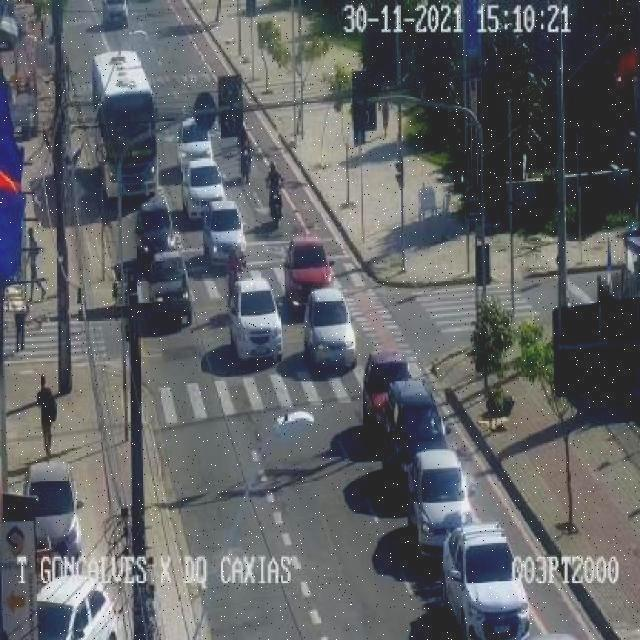Bus: (90, 51, 160, 198)
Car: (442, 522, 529, 639), (407, 447, 475, 552), (22, 460, 87, 565), (39, 571, 122, 640), (385, 379, 443, 465), (303, 289, 358, 372), (228, 282, 283, 362), (362, 350, 411, 431), (284, 234, 334, 310), (145, 252, 192, 322), (202, 201, 249, 268), (182, 157, 225, 220), (134, 201, 175, 259), (177, 118, 214, 169)
Cycle: (265, 182, 285, 223), (238, 142, 252, 183)
